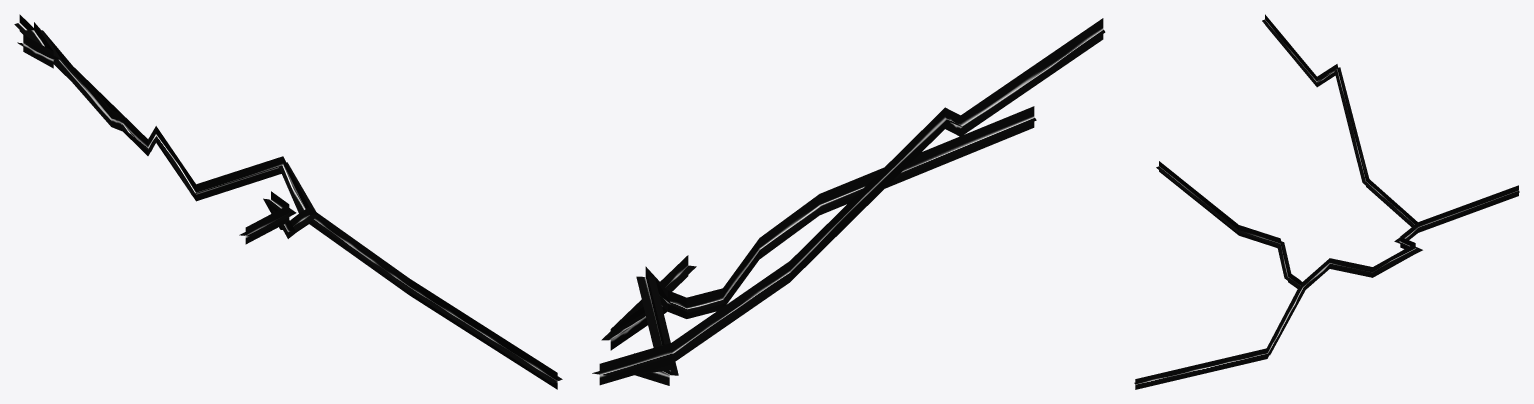
Rendered from Lightning_Chidori.fbx.
The picture shows the model from 3 angles, left to right: view 1: azimuth 30°, elevation 25°; view 2: azimuth 150°, elevation 25°; view 3: azimuth 270°, elevation 25°; orthographic projection. The views are drawn at different scales.
Visible parts, largest first — view 1: SM_WEP_Eff_Chidori_A_01.mo; view 2: SM_WEP_Eff_Chidori_A_01.mo; view 3: SM_WEP_Eff_Chidori_A_01.mo.
Part boxes in pixels (x1,y1,x2,y2): SM_WEP_Eff_Chidori_A_01.mo: [14, 14, 562, 389]; SM_WEP_Eff_Chidori_A_01.mo: [592, 18, 1105, 385]; SM_WEP_Eff_Chidori_A_01.mo: [1134, 14, 1519, 389].
Size of the model in its own units: 216 by 180 by 259.
